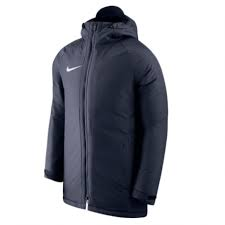nike: (59, 53, 92, 79)
